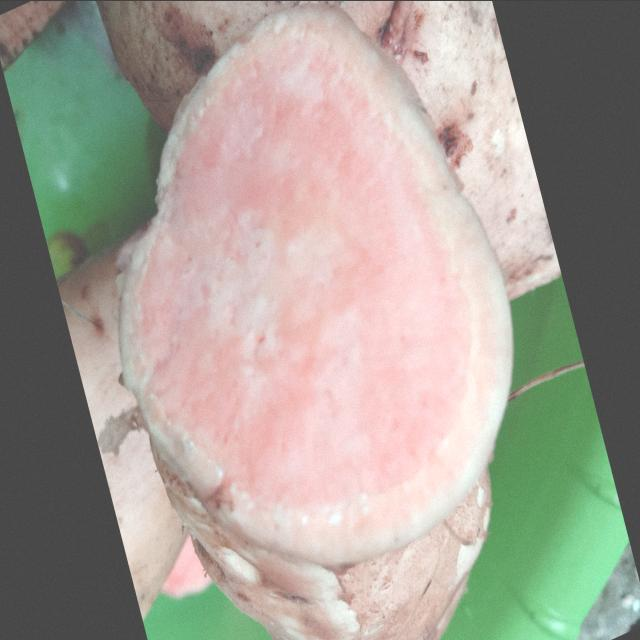Healthy Sweet Potato: (120, 5, 512, 563)
